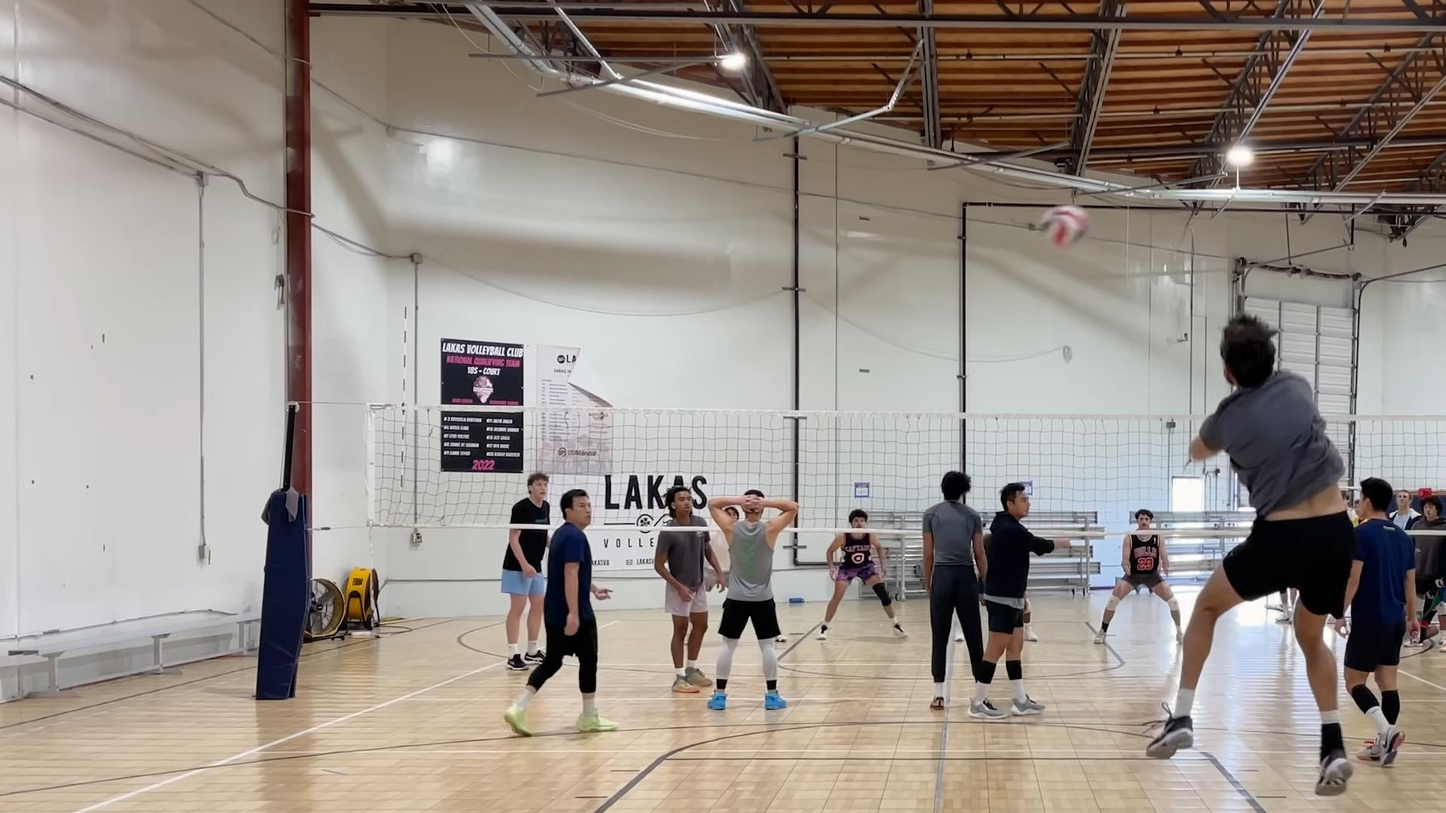Player: (505, 489, 617, 735), (969, 483, 1067, 718), (1344, 478, 1418, 766), (707, 489, 798, 710), (922, 471, 987, 709), (654, 485, 725, 693), (1094, 509, 1182, 643), (817, 509, 906, 640), (501, 472, 550, 670), (1022, 597, 1038, 641)
Serve: (1135, 314, 1363, 796)
ball: (1043, 202, 1090, 249)
